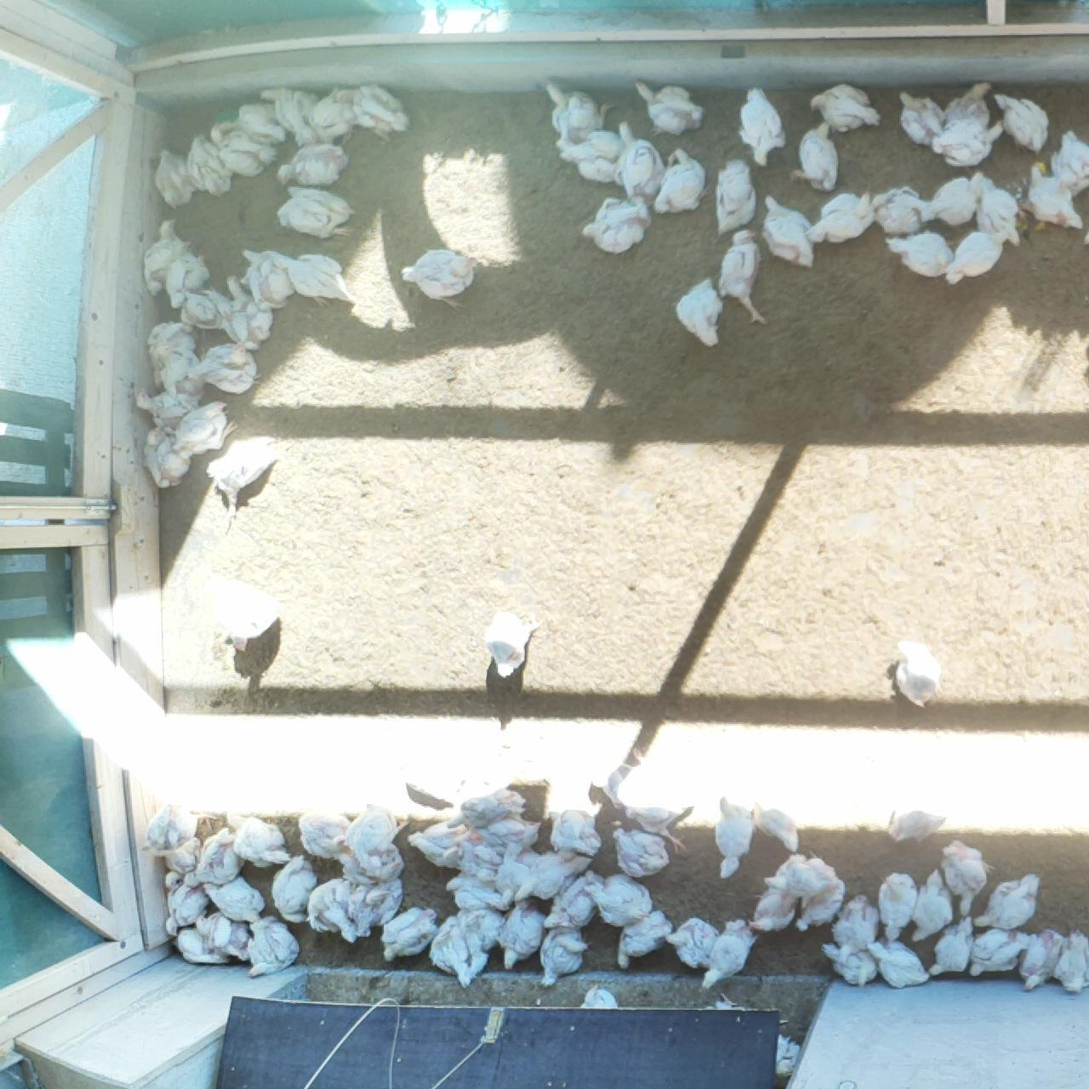chicken: (205, 429, 289, 536), (205, 575, 288, 657), (716, 228, 773, 330), (398, 246, 482, 315), (476, 607, 549, 683), (274, 186, 364, 244), (758, 190, 822, 270), (276, 251, 361, 309), (543, 75, 616, 141), (615, 117, 667, 209), (699, 916, 761, 993), (625, 788, 697, 854), (590, 744, 664, 808), (335, 83, 413, 143), (1022, 162, 1087, 234), (808, 189, 887, 247), (632, 76, 707, 137), (426, 917, 489, 989), (737, 85, 791, 169), (581, 196, 655, 257), (257, 85, 329, 147), (893, 635, 948, 716), (554, 125, 629, 184), (971, 871, 1044, 931), (709, 791, 757, 882), (939, 838, 995, 916), (542, 868, 608, 934), (344, 798, 412, 862), (188, 340, 263, 398), (807, 81, 879, 141), (223, 809, 292, 871), (170, 400, 243, 458), (138, 800, 220, 851), (582, 874, 658, 929), (184, 827, 250, 890), (654, 148, 714, 217), (907, 867, 960, 945), (787, 121, 845, 192), (236, 247, 299, 312), (829, 889, 880, 969), (495, 898, 550, 972), (208, 119, 278, 177), (443, 786, 531, 832), (613, 909, 677, 972), (944, 229, 1013, 287), (245, 914, 306, 979), (992, 90, 1053, 155), (882, 231, 961, 281), (184, 131, 242, 199), (673, 278, 727, 350), (378, 904, 447, 960), (134, 384, 208, 436), (296, 87, 359, 148), (265, 853, 319, 924), (306, 879, 364, 945), (219, 274, 270, 349), (762, 850, 843, 897), (919, 172, 989, 226), (348, 877, 407, 941), (275, 143, 354, 190), (664, 914, 728, 971), (405, 817, 476, 868), (1016, 921, 1067, 992), (714, 157, 758, 239), (794, 874, 853, 935), (875, 869, 922, 945), (930, 120, 1004, 168), (871, 183, 945, 231), (967, 925, 1034, 978), (510, 851, 575, 905), (146, 318, 200, 383), (747, 800, 808, 857), (895, 87, 952, 148), (296, 805, 358, 861), (609, 826, 673, 880), (977, 174, 1023, 249), (202, 876, 267, 929), (191, 909, 257, 961), (144, 217, 188, 294), (818, 939, 884, 990), (867, 941, 934, 991), (537, 925, 589, 989), (925, 915, 977, 979), (490, 846, 542, 909), (150, 145, 200, 210), (336, 841, 408, 886), (232, 99, 294, 151), (156, 344, 209, 404), (881, 805, 954, 848), (746, 879, 801, 936), (442, 871, 516, 913), (144, 428, 192, 490), (156, 835, 208, 892), (1049, 127, 1089, 200), (453, 904, 510, 955), (944, 78, 1001, 129), (547, 805, 605, 855), (169, 247, 212, 310), (453, 829, 505, 881), (164, 883, 210, 940), (1057, 926, 1089, 997), (170, 929, 233, 965), (774, 1019, 810, 1082), (547, 851, 592, 900), (179, 290, 233, 329), (484, 818, 544, 847), (576, 982, 625, 1010), (700, 991, 747, 1010)
